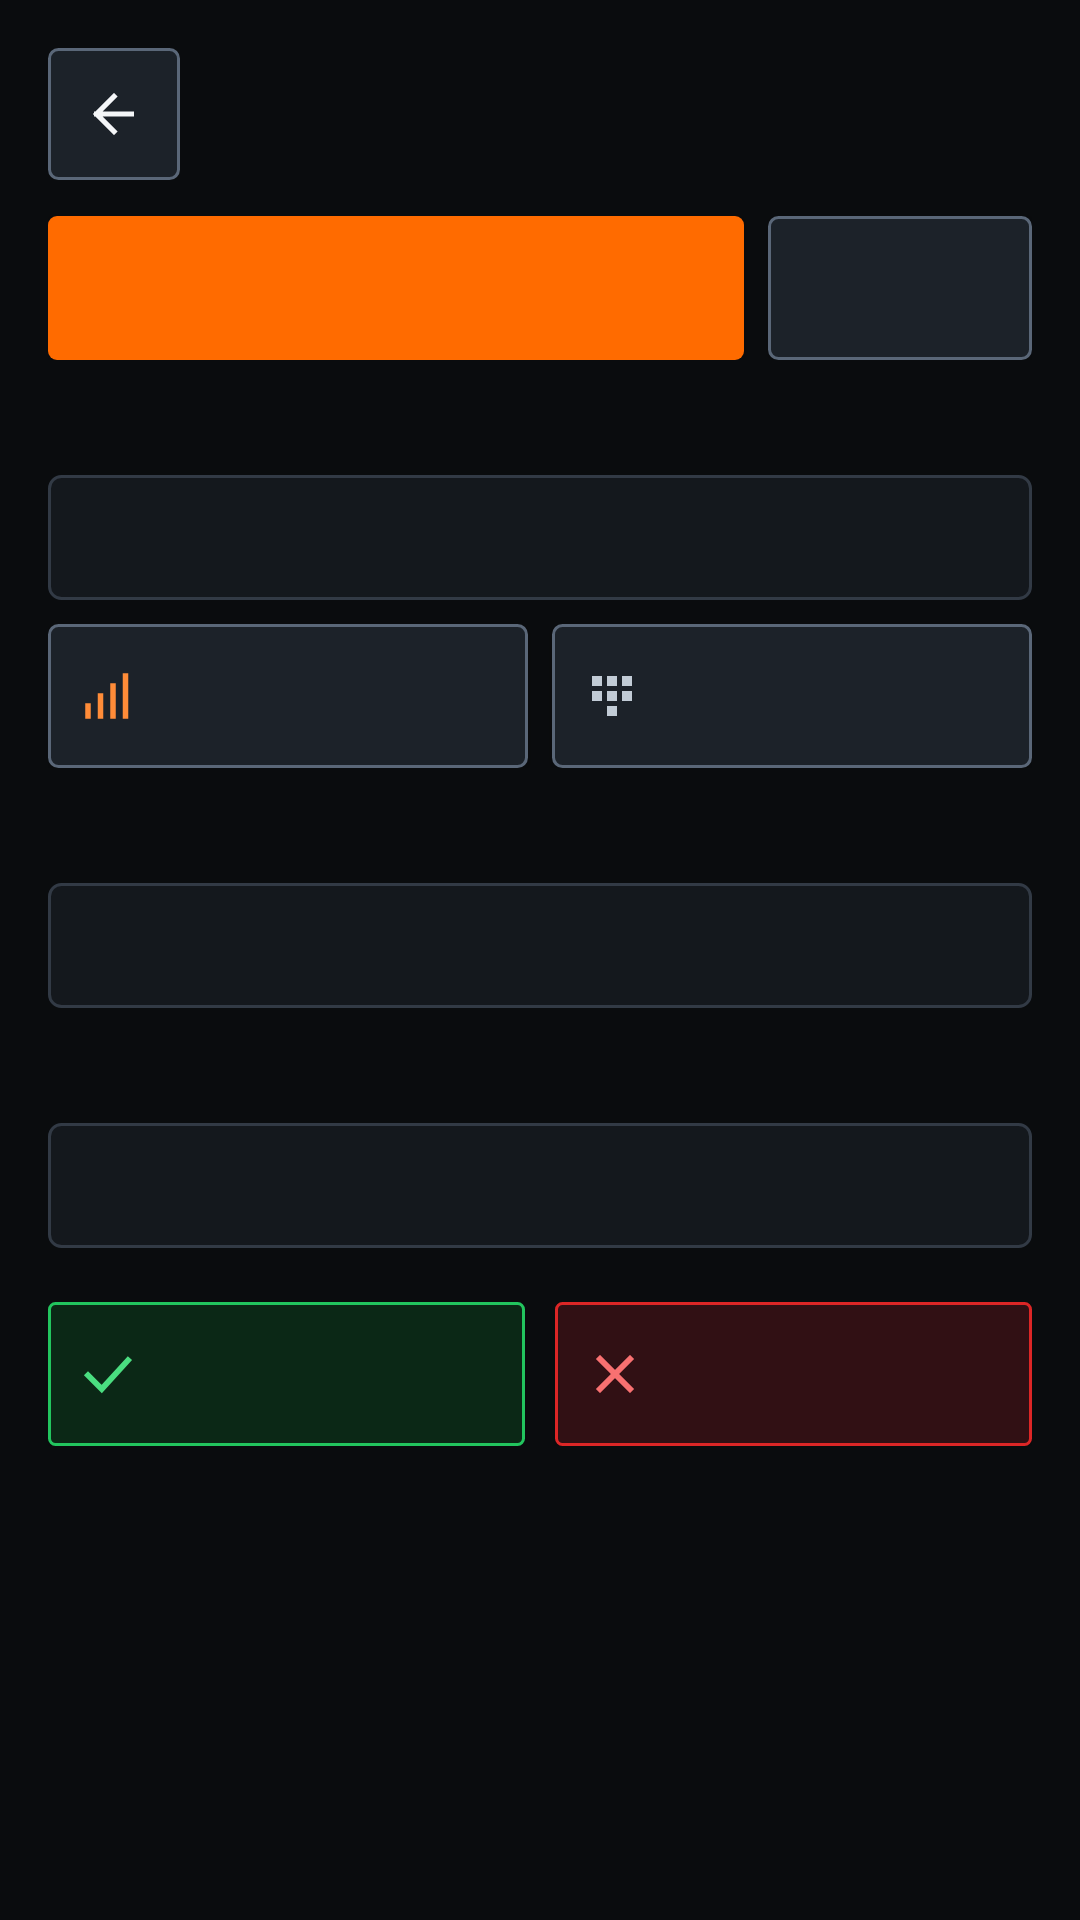

Icons on this 1080*1920 Android screen, each with its box as (x1, y1, x2, y2):
Back: (48, 48, 180, 180)
